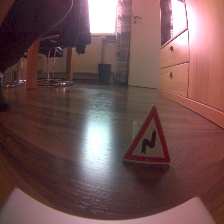vorsicht: (122, 102, 174, 167)
